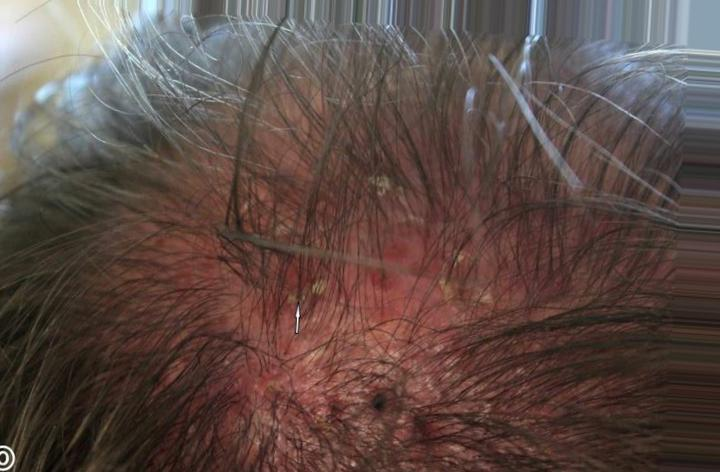Folliculitis: (255, 209, 435, 435)
